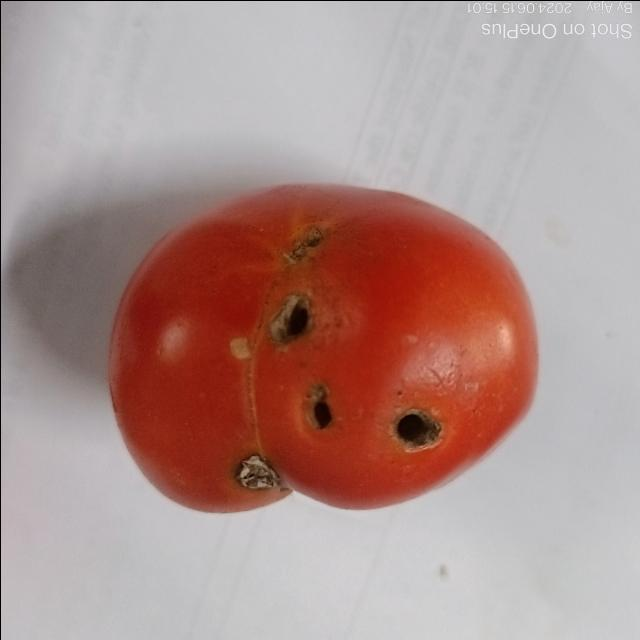fruitworm_bore: (266, 293, 316, 347), (386, 408, 446, 448), (304, 376, 336, 438)
